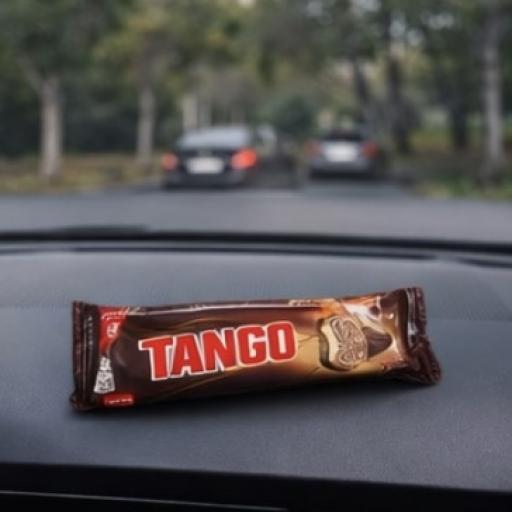tango: (47, 240, 480, 451)
